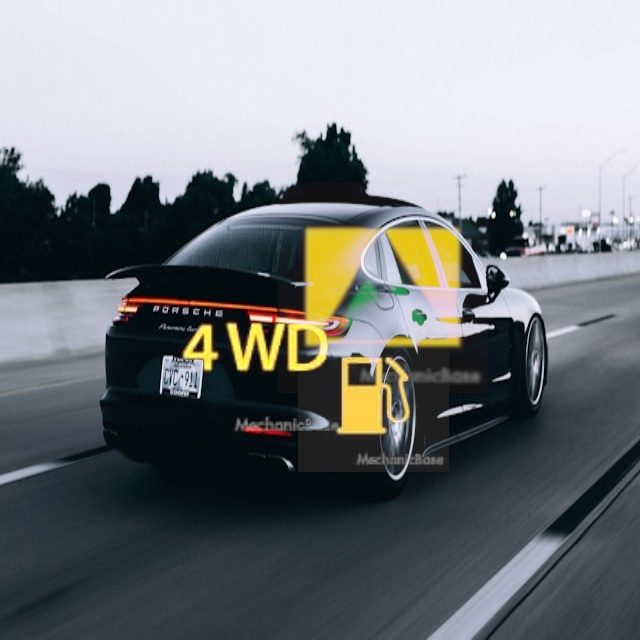symbol: (278, 183, 488, 393), (164, 258, 346, 440), (298, 321, 449, 472)
